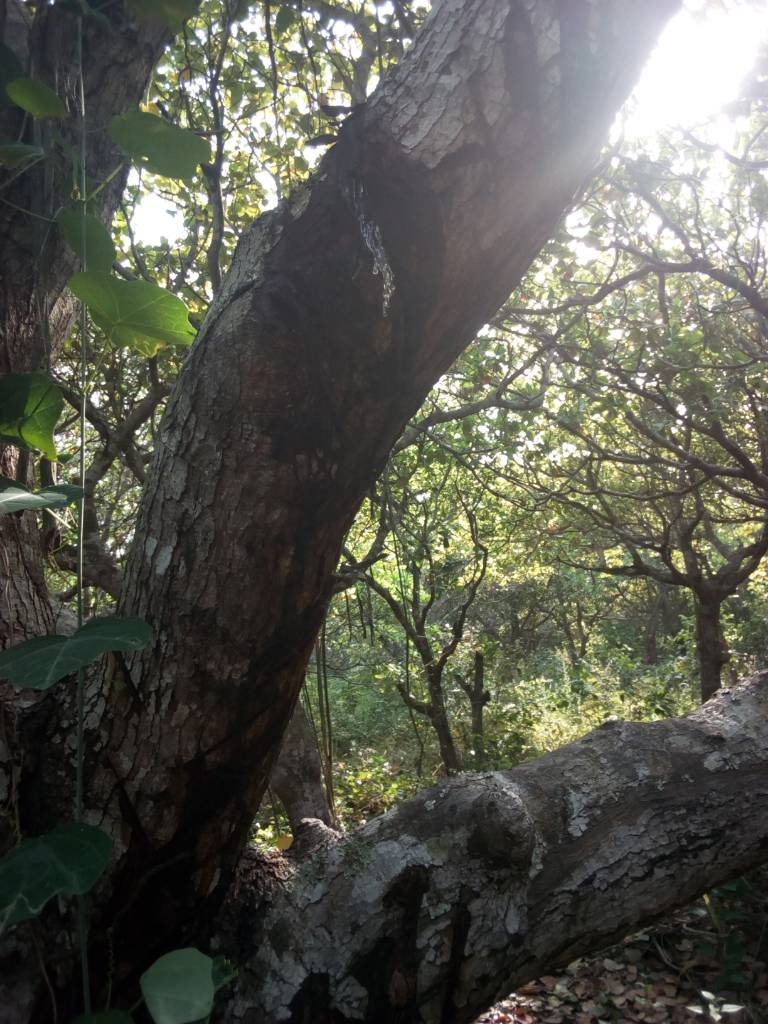Gommose: (290, 147, 440, 419)
